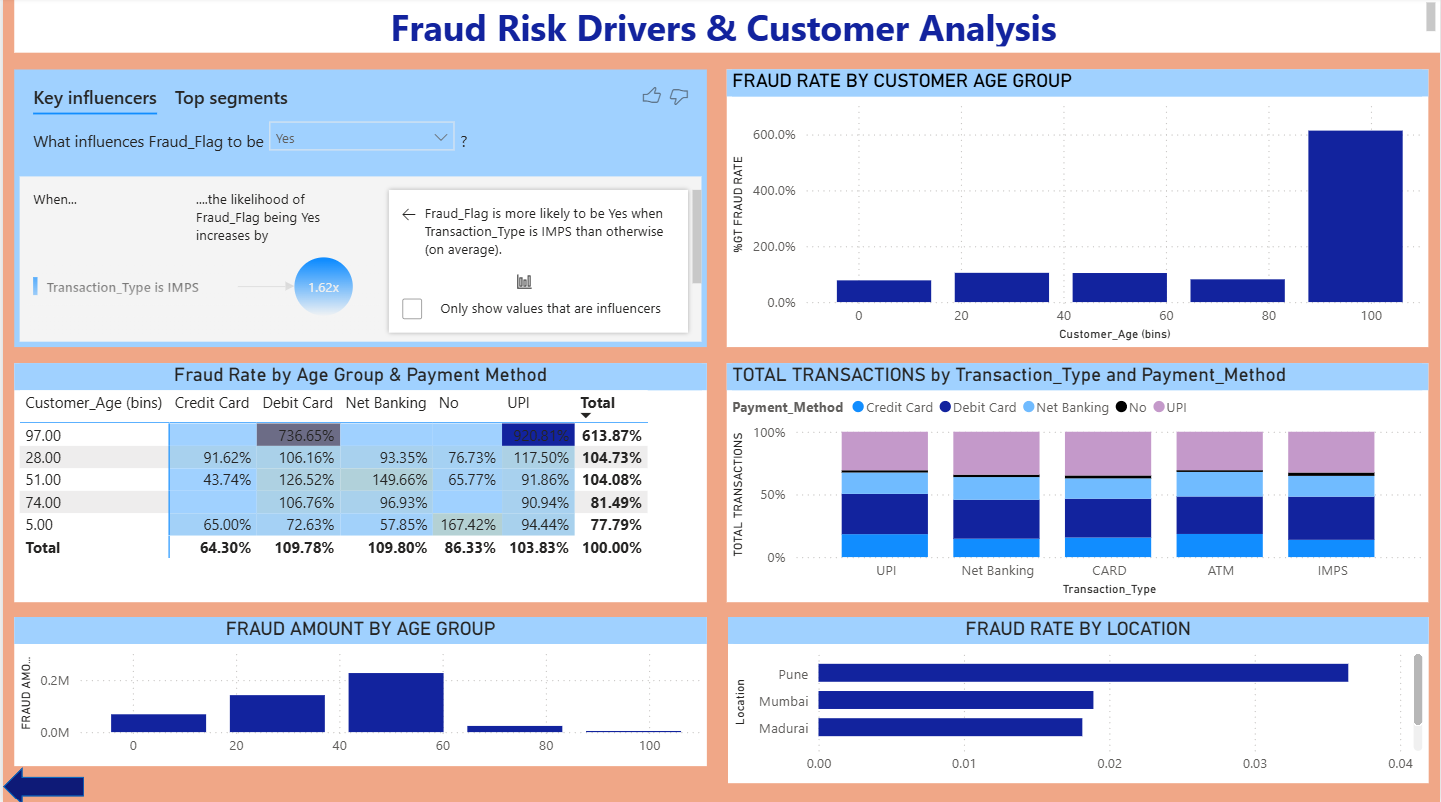

The dashboard page shown, as its layout file describes it:
{"tool":"powerbi","page":{"name":"Fraud risk drivers","canvas":[1280,720],"ordinal":3},"visuals":[{"type":"textbox","box":[9.6,0,1270.7,49.4],"z":0},{"type":"keyDriversVisual","fields":{"Target":["FRAUD DATA.Fraud_Flag"],"ExplainBy":["FRAUD DATA.Transaction_Type","FRAUD DATA.Customer_Age","FRAUD DATA.Payment_Method","FRAUD DATA.Location","FRAUD DATA.Amount"]},"box":[10,64.6,616.7,247.1],"z":1000},{"type":"clusteredColumnChart","title":"FRAUD RATE BY CUSTOMER AGE GROUP","fields":{"Category":["FRAUD DATA.Customer_Age (bins)"],"Y":["FRAUD DATA.FRAUD RATE"]},"box":[644.5,64.6,624.5,247.1],"z":2000},{"type":"pivotTable","title":"Fraud Rate by Age Group & Payment Method","fields":{"Rows":["FRAUD DATA.Customer_Age (bins)"],"Columns":["FRAUD DATA.Payment_Method"],"Values":["FRAUD DATA.FRAUD RATE"]},"box":[10,326.2,616.7,212.6],"z":3000},{"type":"hundredPercentStackedColumnChart","fields":{"Category":["FRAUD DATA.Transaction_Type"],"Series":["FRAUD DATA.Payment_Method"],"Y":["FRAUD DATA.TOTAL TRANSACTIONS"]},"box":[644.5,326.2,624.5,212.6],"z":4000},{"type":"clusteredColumnChart","title":"FRAUD AMOUNT BY AGE GROUP","fields":{"Category":["FRAUD DATA.Customer_Age (bins)"],"Y":["FRAUD DATA.FRAUD AMOUNT"]},"box":[9.7,552.5,616.5,132.7],"z":5000},{"type":"barChart","title":"FRAUD RATE BY LOCATION","fields":{"Category":["FRAUD DATA.Location"],"Y":["FRAUD DATA.FRAUD RATE"]},"box":[645.4,552.5,623.7,148.4],"z":6000},{"type":"shape","box":[0,685.3,72.4,35],"z":6002}]}

Visuals, with their boxes in screenshot pixels (x1, y1, x2, y2), scaled from the page's 1280x720 canvas onto the 1441x802 screenshot:
textbox: locate(11, 0, 1440, 55)
keyDriversVisual - FRAUD DATA.Fraud_Flag x FRAUD DATA.Transaction_Type: locate(11, 72, 706, 347)
"FRAUD RATE BY CUSTOMER AGE GROUP" clusteredColumnChart: locate(726, 72, 1429, 347)
"Fraud Rate by Age Group & Payment Method" pivotTable: locate(11, 363, 706, 600)
hundredPercentStackedColumnChart - FRAUD DATA.Transaction_Type x FRAUD DATA.Payment_Method: locate(726, 363, 1429, 600)
"FRAUD AMOUNT BY AGE GROUP" clusteredColumnChart: locate(11, 615, 705, 763)
"FRAUD RATE BY LOCATION" barChart: locate(727, 615, 1429, 781)
shape: locate(0, 763, 82, 801)
